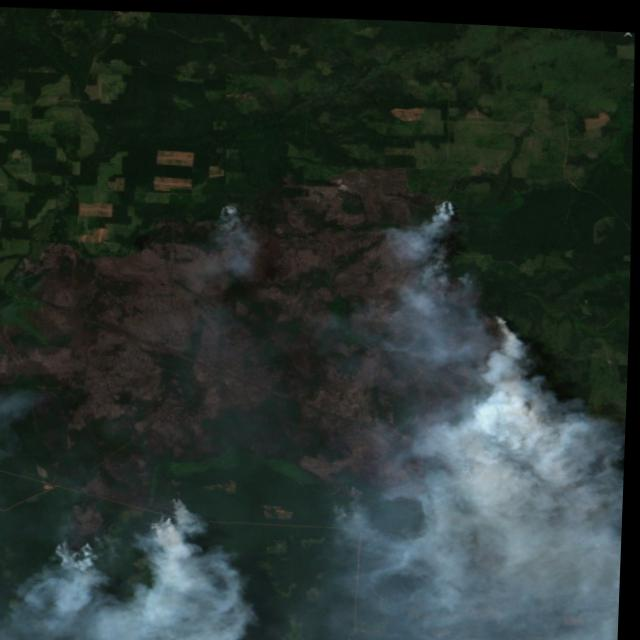fire: (399, 185, 548, 476), (54, 482, 196, 569), (213, 194, 252, 223)
